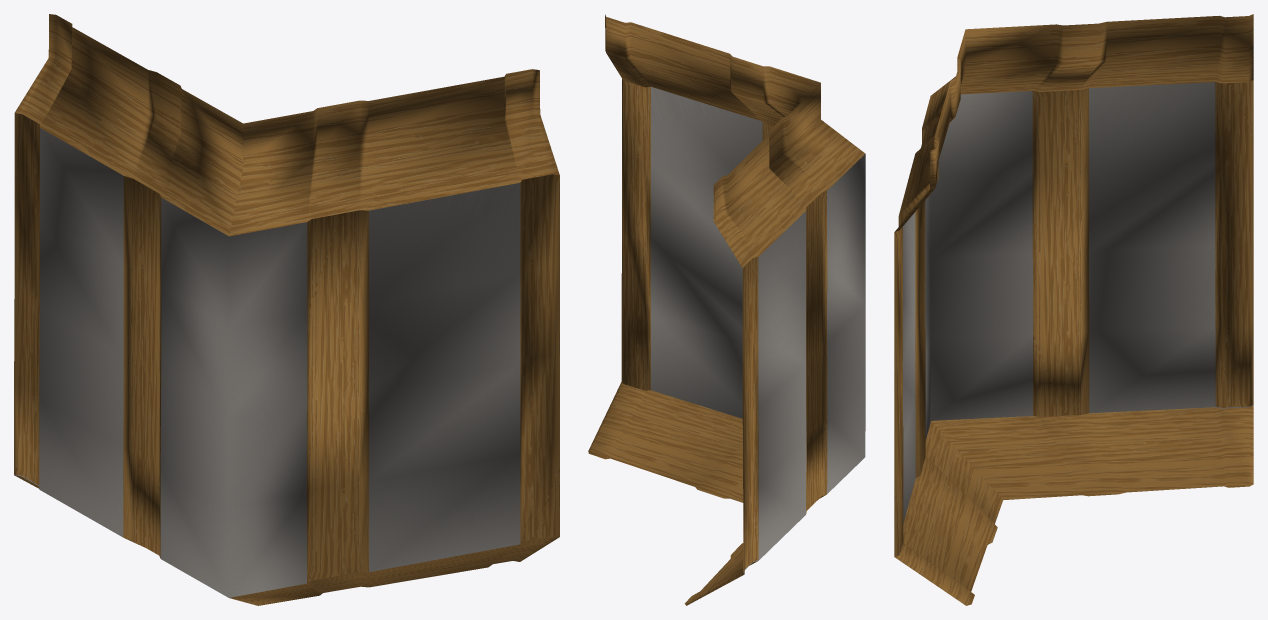
The model's file is wallcor4th.fbx.
3 views of the same model, side by side, from view 1: azimuth 30°, elevation 25°; view 2: azimuth 150°, elevation 25°; view 3: azimuth 270°, elevation 25° (orthographic). The views are drawn at different scales.
Visible parts, largest first — view 1: roomcorner; view 2: roomcorner; view 3: roomcorner.
Part boxes in pixels (x1,y1,x2,y2): roomcorner: (14,14,559,605); roomcorner: (588,14,865,605); roomcorner: (894,14,1253,605).
Size of the model in its own units: 200 by 280 by 200.
